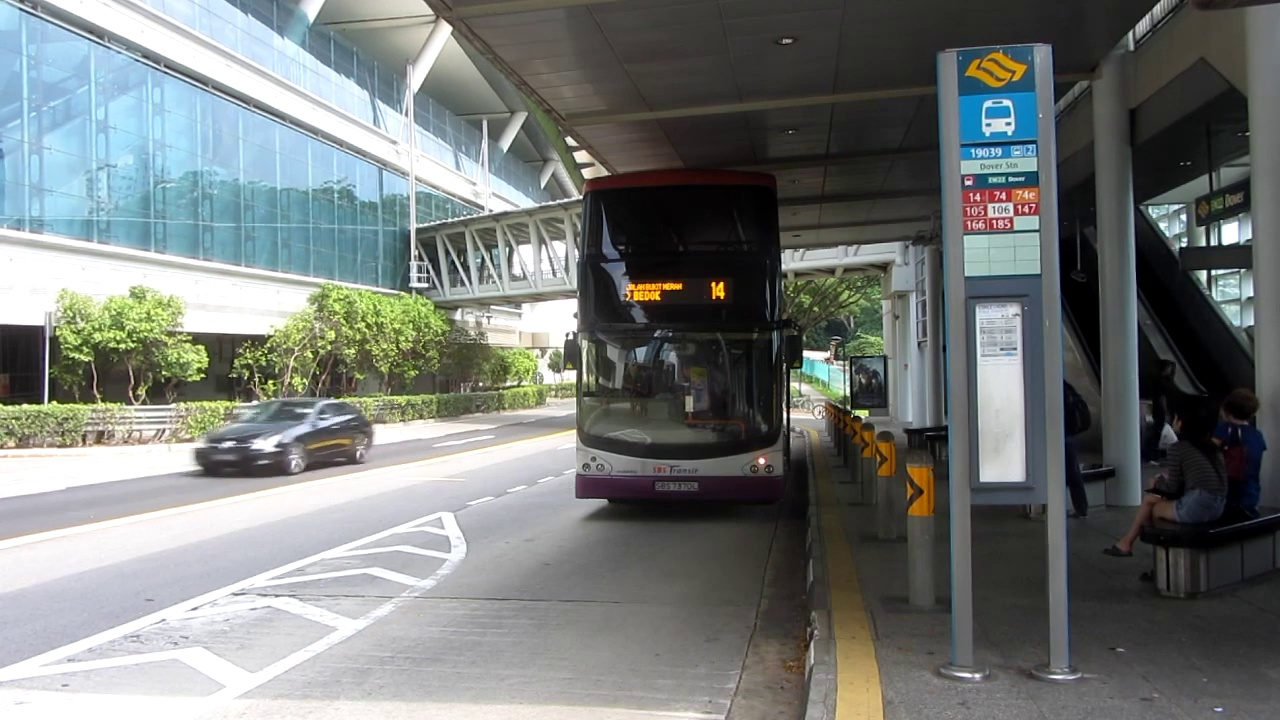bus panel: (620, 278, 731, 305)
